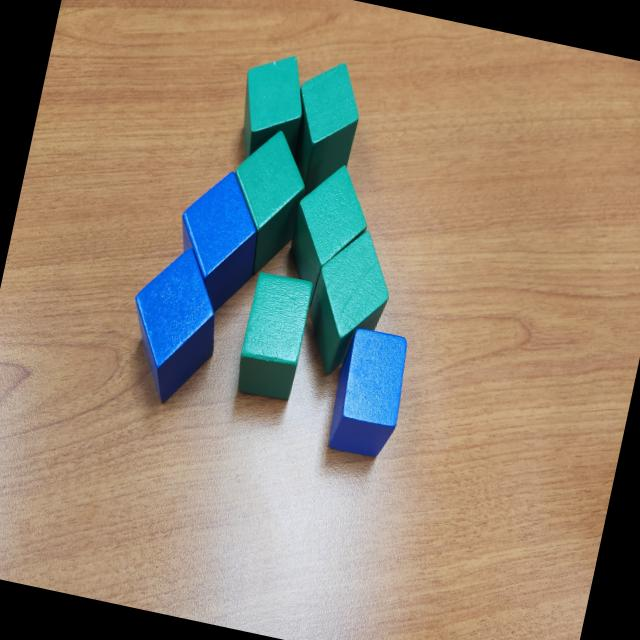blue: (114, 237, 233, 411), (164, 162, 272, 320), (322, 323, 414, 462)
green: (296, 221, 401, 384), (214, 121, 316, 282), (276, 53, 370, 204), (280, 156, 378, 293), (231, 268, 316, 403), (229, 46, 315, 172)
